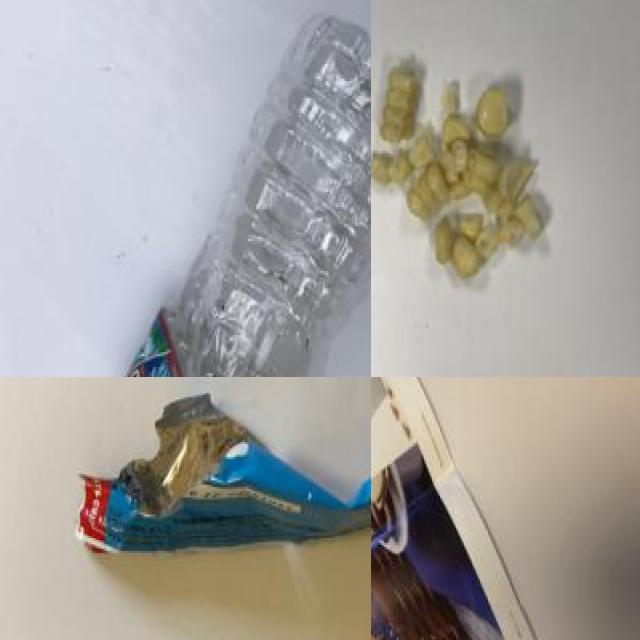compost: (371, 41, 568, 316)
paper: (371, 377, 561, 640)
plastic: (85, 2, 371, 377)
trash: (75, 377, 371, 574)
